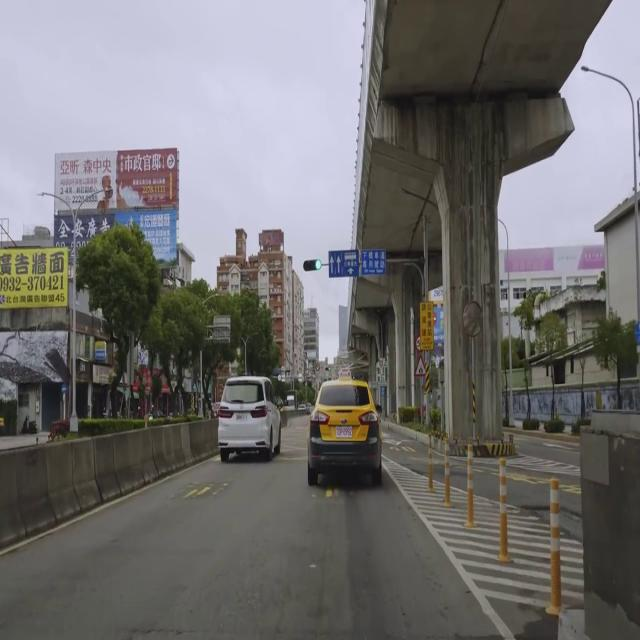green light: (303, 259, 321, 272)
